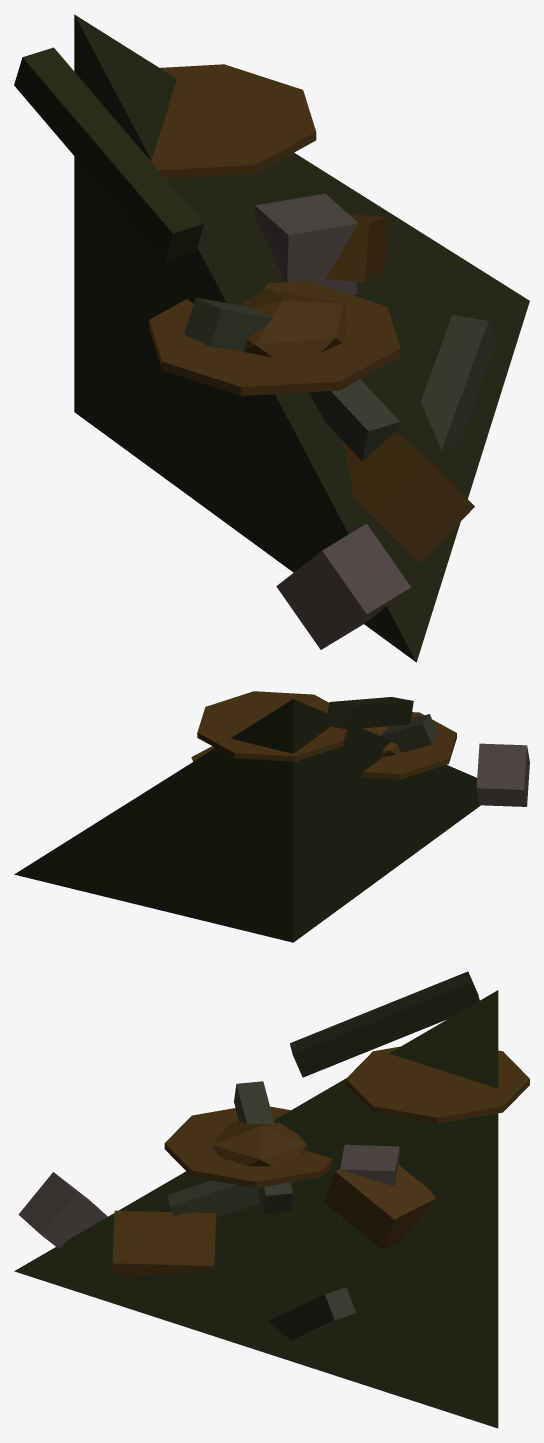
The model's file is SM_PilaZombi_RemateDer_Altura2_s2_LOD1.fbx.
The picture shows the model from 3 angles, top to bottom: view 1: azimuth 30°, elevation 25°; view 2: azimuth 150°, elevation 25°; view 3: azimuth 270°, elevation 25°; orthographic projection. The views are drawn at different scales.
Parts seen in each view (by area): view 1: SM_pila_zombis_v11_LOD1; view 2: SM_pila_zombis_v11_LOD1; view 3: SM_pila_zombis_v11_LOD1.
Boxes of the visible parts, x1,y1,x2,y2 form: SM_pila_zombis_v11_LOD1: [14, 14, 529, 662]; SM_pila_zombis_v11_LOD1: [14, 691, 529, 942]; SM_pila_zombis_v11_LOD1: [14, 971, 529, 1428].
Size of the model in its own units: 1.93 by 1.37 by 2.24.
